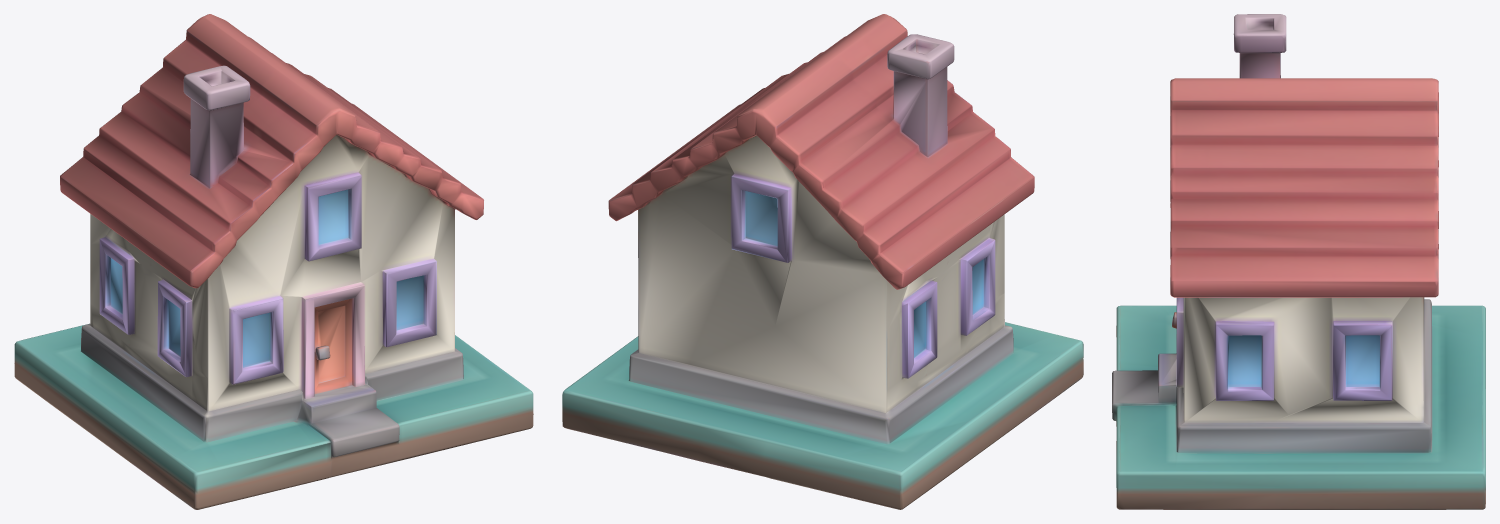
The model's file is konut.glb.
3 renders of one model, left to right at view 1: azimuth 30°, elevation 25°; view 2: azimuth 150°, elevation 25°; view 3: azimuth 270°, elevation 25°, orthographic.
Visible parts, largest first — view 1: node_0; view 2: node_0; view 3: node_0.
Boxes of the visible parts, x1=… form: node_0: x1=14, y1=14, x2=533, y2=509; node_0: x1=562, y1=14, x2=1083, y2=509; node_0: x1=1112, y1=14, x2=1485, y2=509.
Size of the model in its own units: 0.7089 by 0.7182 by 0.6668.
1 material, 1 textured.
